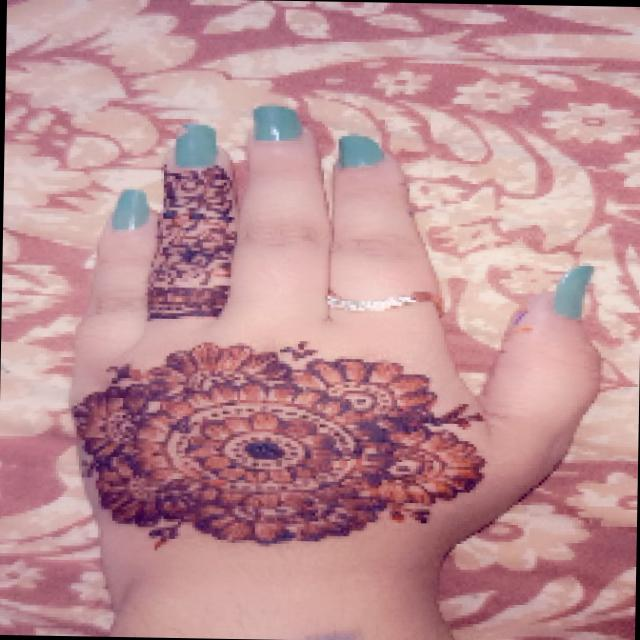Nail: (551, 264, 592, 318), (174, 123, 215, 167), (252, 104, 301, 139), (110, 188, 148, 229), (337, 134, 383, 167)
